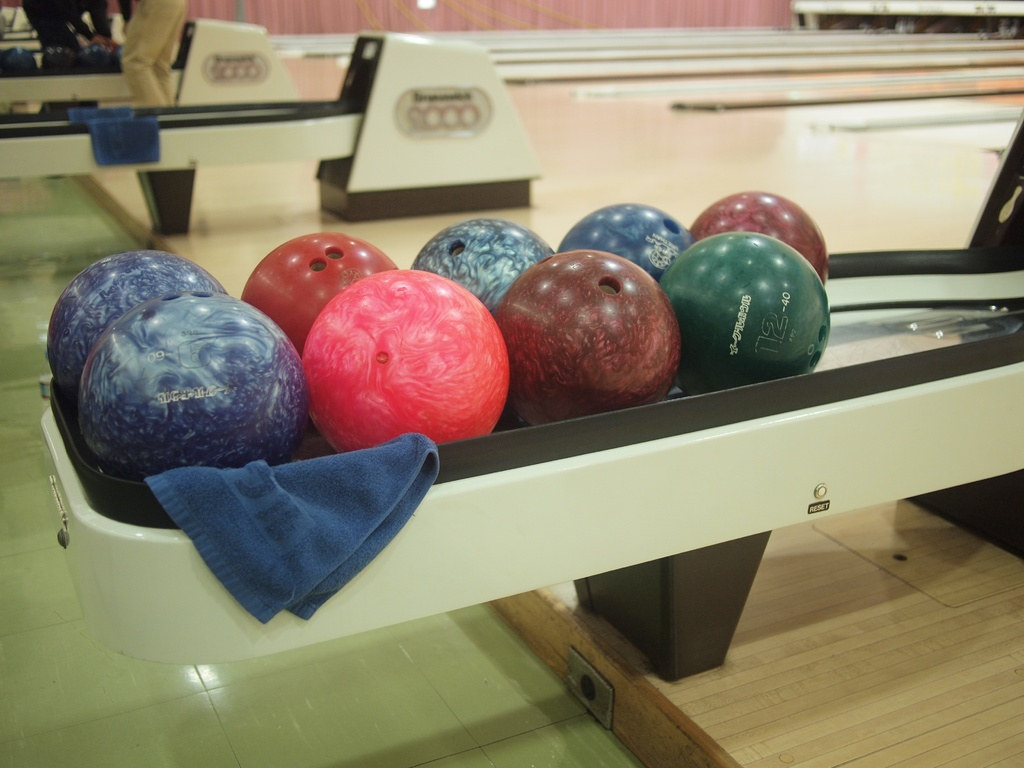Ball: (79, 291, 308, 484), (303, 268, 508, 454), (495, 252, 677, 424), (664, 233, 831, 395), (48, 256, 223, 409), (243, 233, 394, 355), (696, 189, 832, 285), (417, 224, 557, 317), (557, 200, 692, 284)
